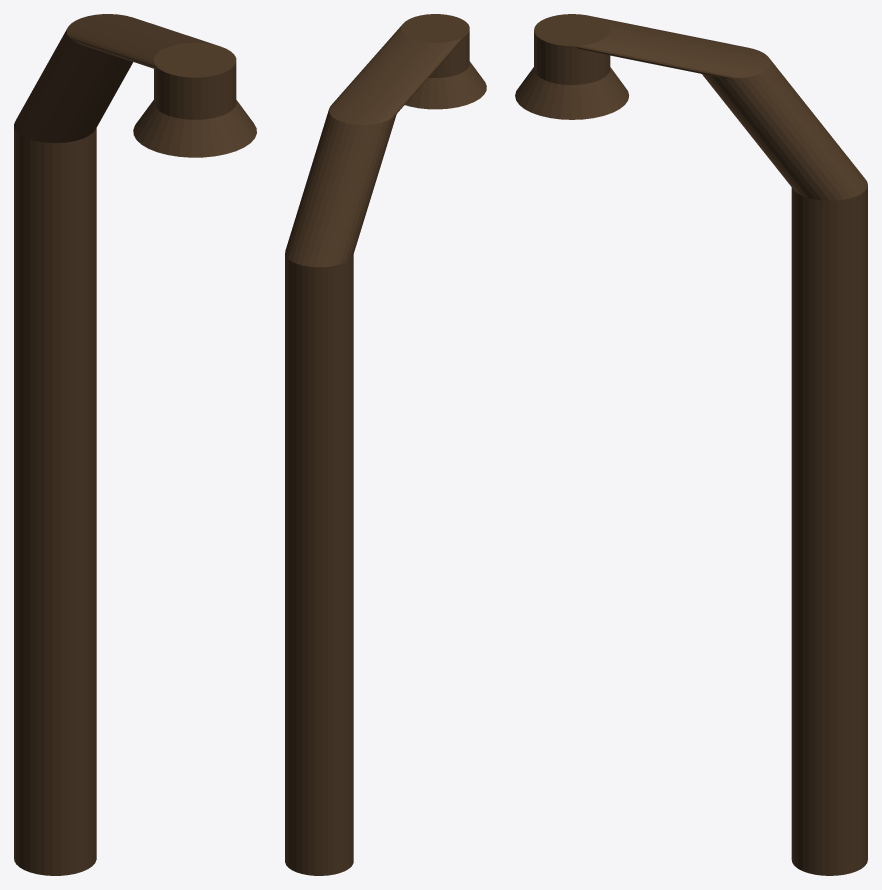
File: Street light.glb
3 renders of one model, left to right at view 1: azimuth 30°, elevation 25°; view 2: azimuth 150°, elevation 25°; view 3: azimuth 270°, elevation 25°, orthographic. The views are drawn at different scales.
Parts seen in each view (by area): view 1: Cylinder; view 2: Cylinder; view 3: Cylinder.
Boxes of the visible parts, x1,y1,x2,y2 form: Cylinder: (14, 14, 256, 875); Cylinder: (285, 14, 486, 875); Cylinder: (515, 14, 867, 875).
Bounding box in the file's own units: 1.91 × 15.34 × 5.91.
